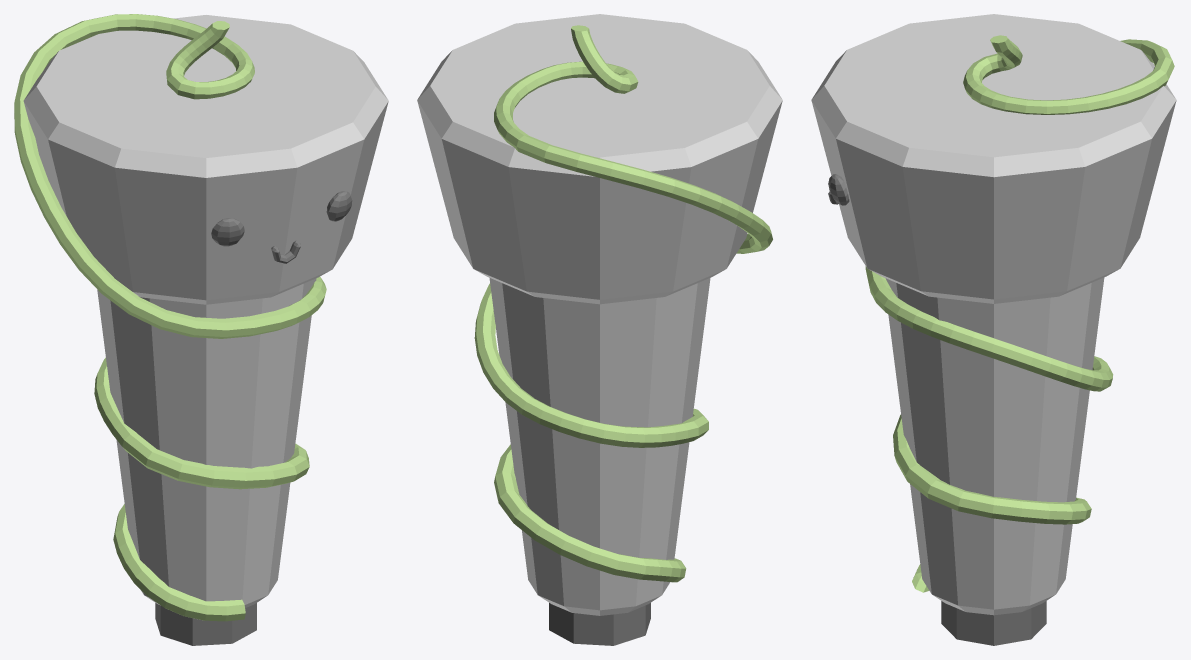
File: SM_HappyRobot.fbx
3 renders of one model, left to right at view 1: azimuth 30°, elevation 25°; view 2: azimuth 150°, elevation 25°; view 3: azimuth 270°, elevation 25°, orthographic.
Visible parts, largest first — view 1: happy_robot; view 2: happy_robot; view 3: happy_robot.
Boxes of the visible parts, box(x1,y1,x2,y2) form: happy_robot: box(14, 14, 388, 645); happy_robot: box(417, 14, 782, 645); happy_robot: box(811, 14, 1176, 645).
Size of the model in its own units: 128 by 229 by 128.
